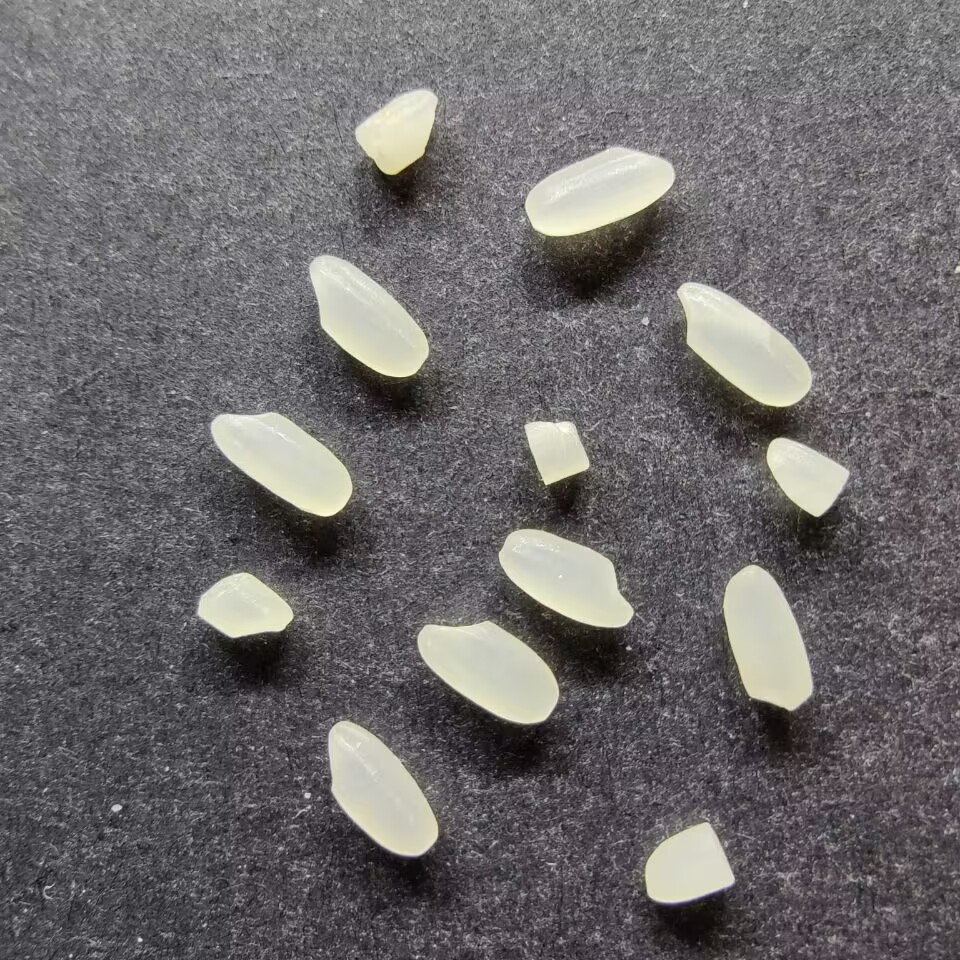broken: (643, 821, 735, 904), (353, 88, 438, 176), (765, 437, 850, 517), (196, 572, 293, 638), (523, 419, 589, 486)
rice: (675, 281, 813, 407), (326, 720, 439, 857), (209, 410, 352, 518), (308, 253, 430, 378), (416, 620, 558, 724), (524, 145, 675, 237), (498, 527, 634, 628), (722, 564, 814, 710)
